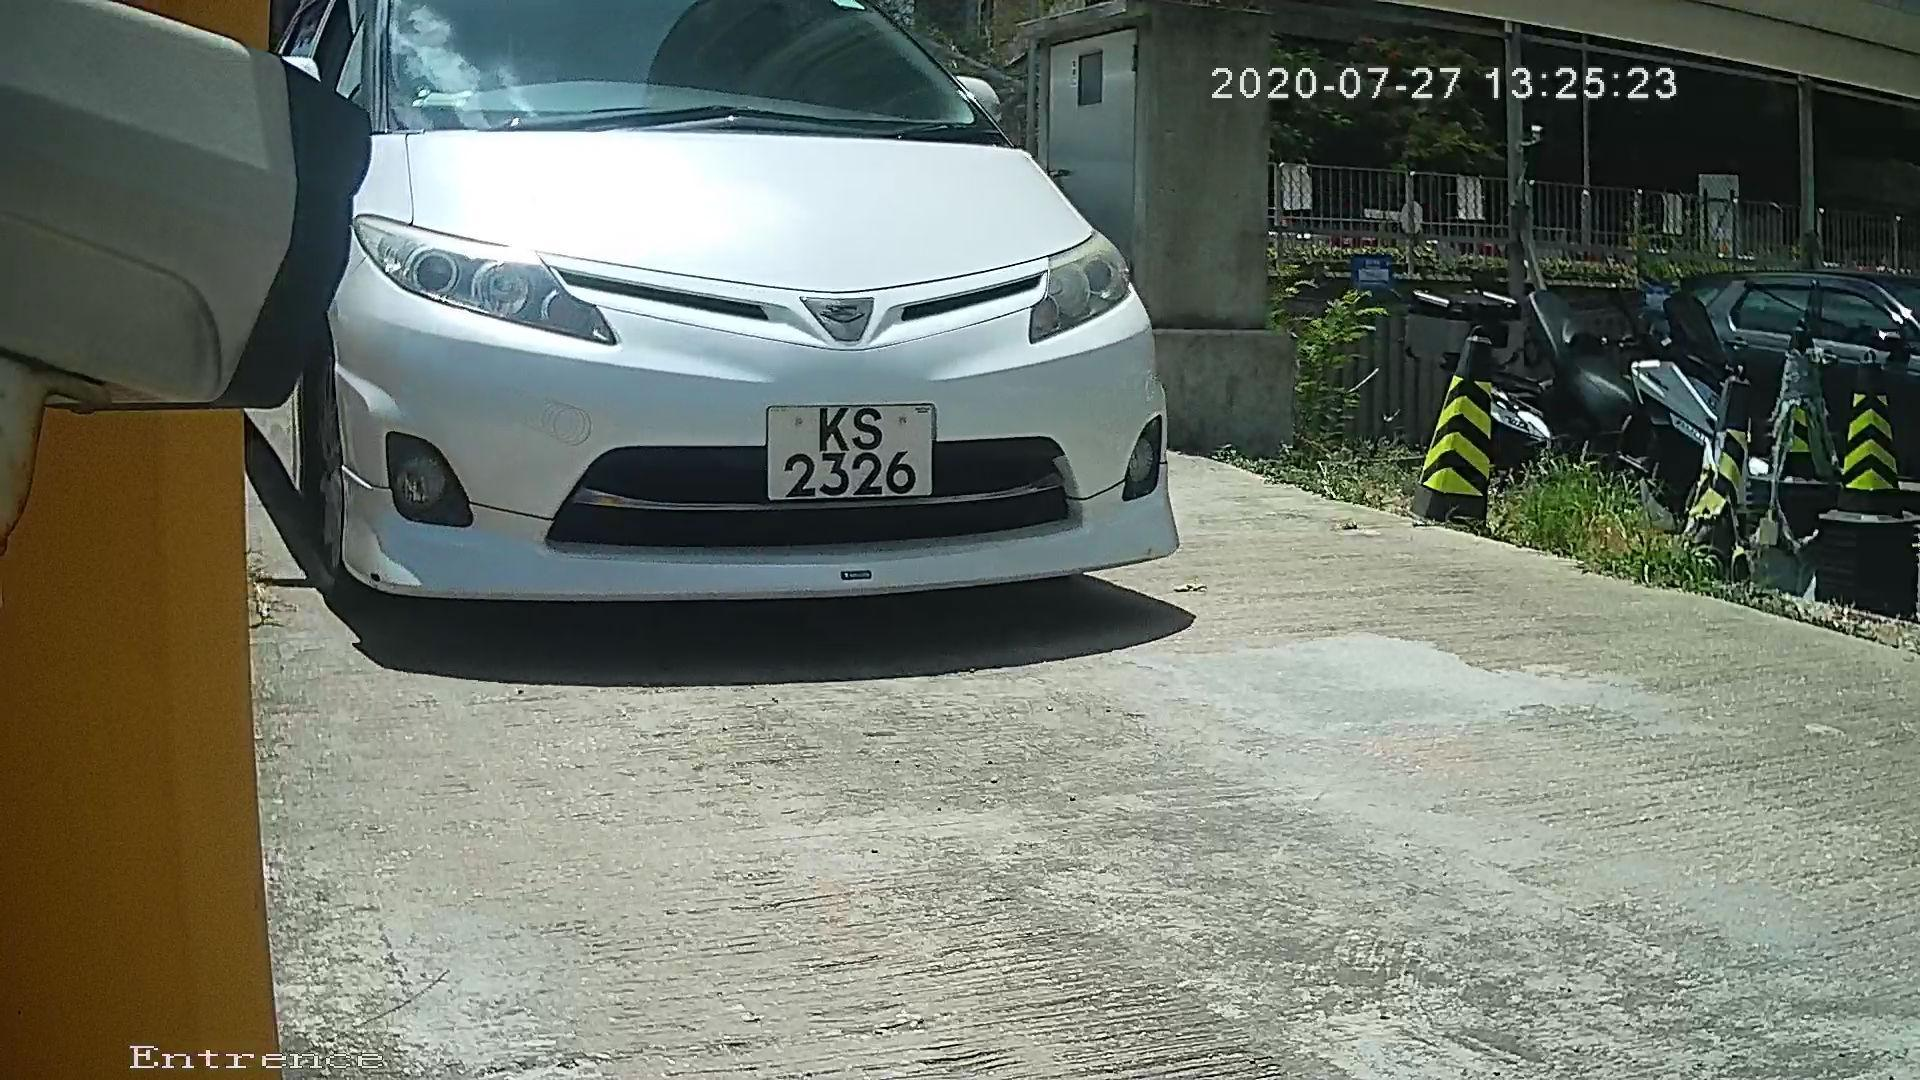Car: (121, 15, 1243, 666)
License Plate: (746, 377, 952, 521)
